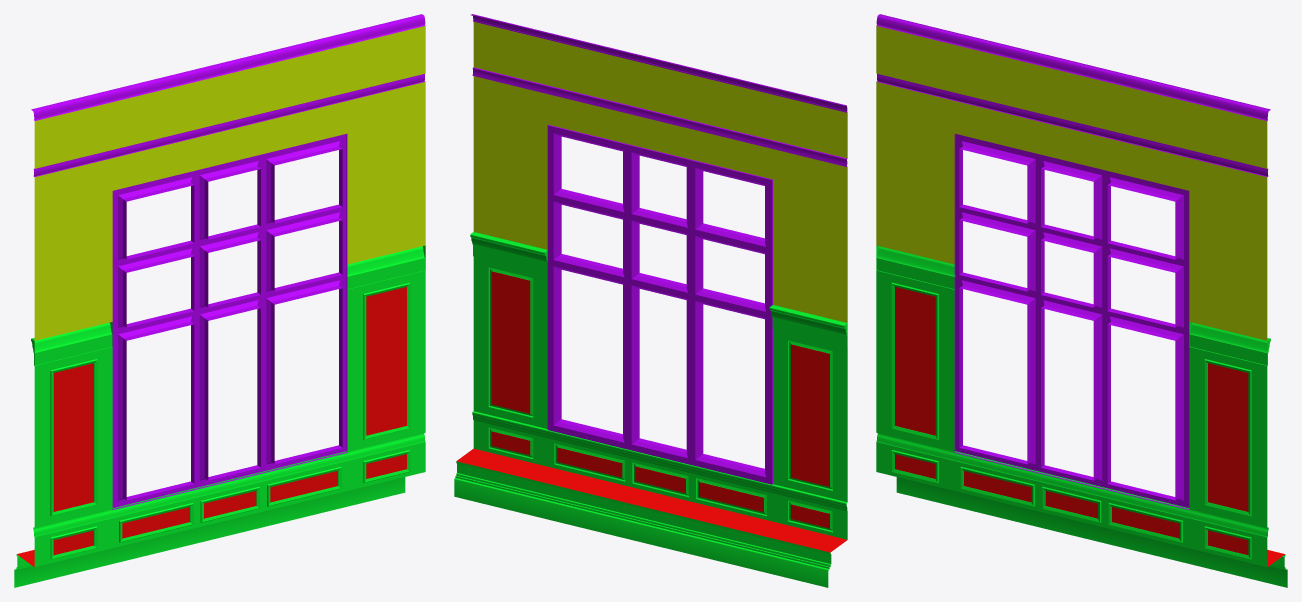
Rendered from AR-StairCaseWall_02.FBX.
3 views of the same model, side by side, from view 1: azimuth 30°, elevation 25°; view 2: azimuth 150°, elevation 25°; view 3: azimuth 330°, elevation 25° (orthographic). The views are drawn at different scales.
Parts seen in each view (by area): view 1: AR-StairCaseWall_02; view 2: AR-StairCaseWall_02; view 3: AR-StairCaseWall_02.
Boxes of the visible parts, x1,y1,x2,y2 form: AR-StairCaseWall_02: (14,14,425,587); AR-StairCaseWall_02: (454,14,847,587); AR-StairCaseWall_02: (876,14,1287,587).
Bounding box in the file's own units: 500 × 600 × 54.84.
